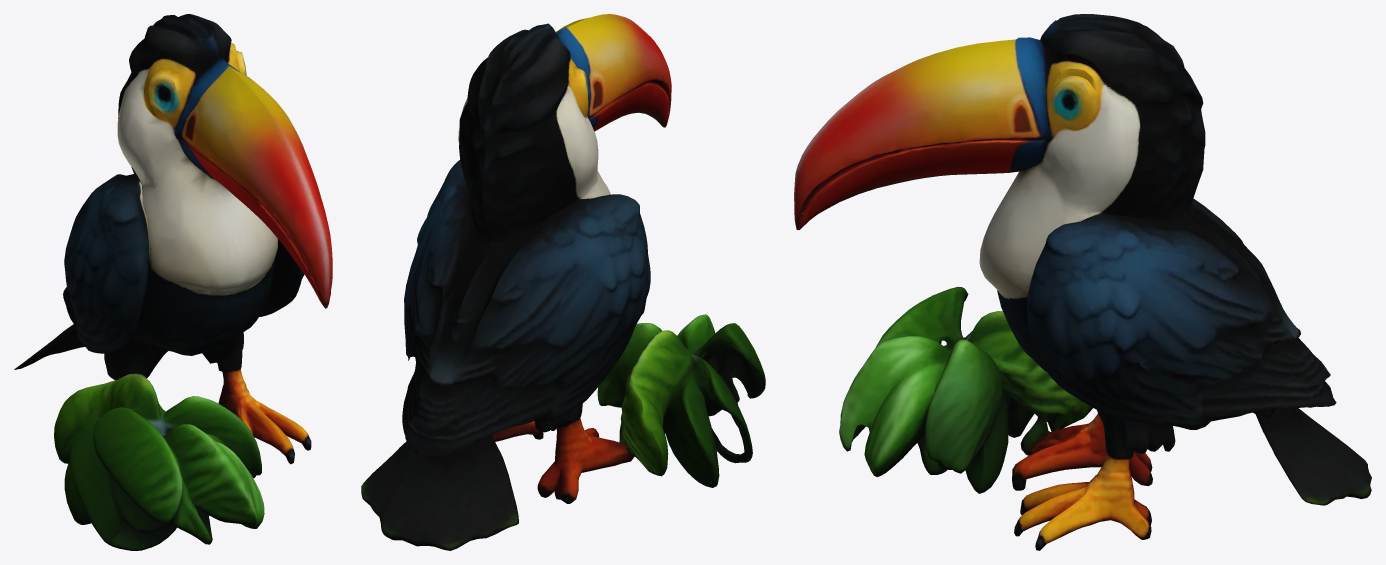
File: toco-toucan.glb
3 renders of one model, left to right at view 1: azimuth 30°, elevation 25°; view 2: azimuth 150°, elevation 25°; view 3: azimuth 270°, elevation 25°, orthographic. The views are drawn at different scales.
Visible parts, largest first — view 1: Object_5; view 2: Object_5; view 3: Object_5.
Part boxes in pixels (x1,y1,x2,y2): Object_5: (14,14,332,550); Object_5: (361,14,765,550); Object_5: (794,14,1371,550).
Size of the model in its own units: 0.6111 by 0.9577 by 1.
Materials: 1 (1 with a texture image).
